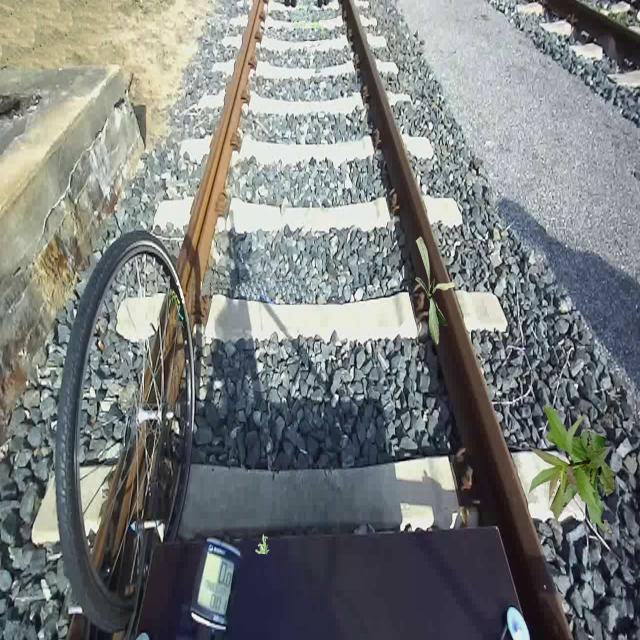Plant: (527, 405, 616, 535), (415, 236, 455, 346), (256, 534, 270, 554)
